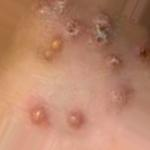Ants: (34, 27, 71, 66), (105, 79, 135, 110), (88, 13, 113, 44), (36, 0, 65, 17), (63, 18, 81, 39), (105, 53, 123, 73), (67, 111, 83, 128), (31, 107, 46, 125), (138, 45, 149, 64)
